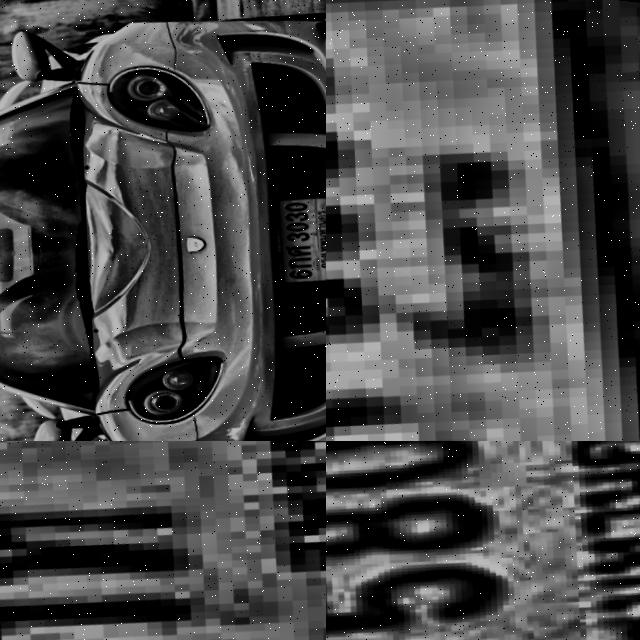license-plate: (326, 0, 640, 441), (0, 441, 326, 640), (326, 441, 640, 640), (272, 174, 326, 280)
